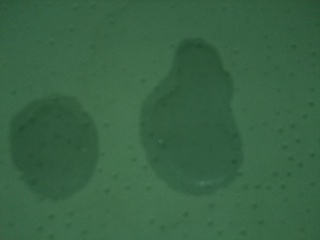Water_detected: (146, 59, 222, 176), (24, 104, 84, 185)
